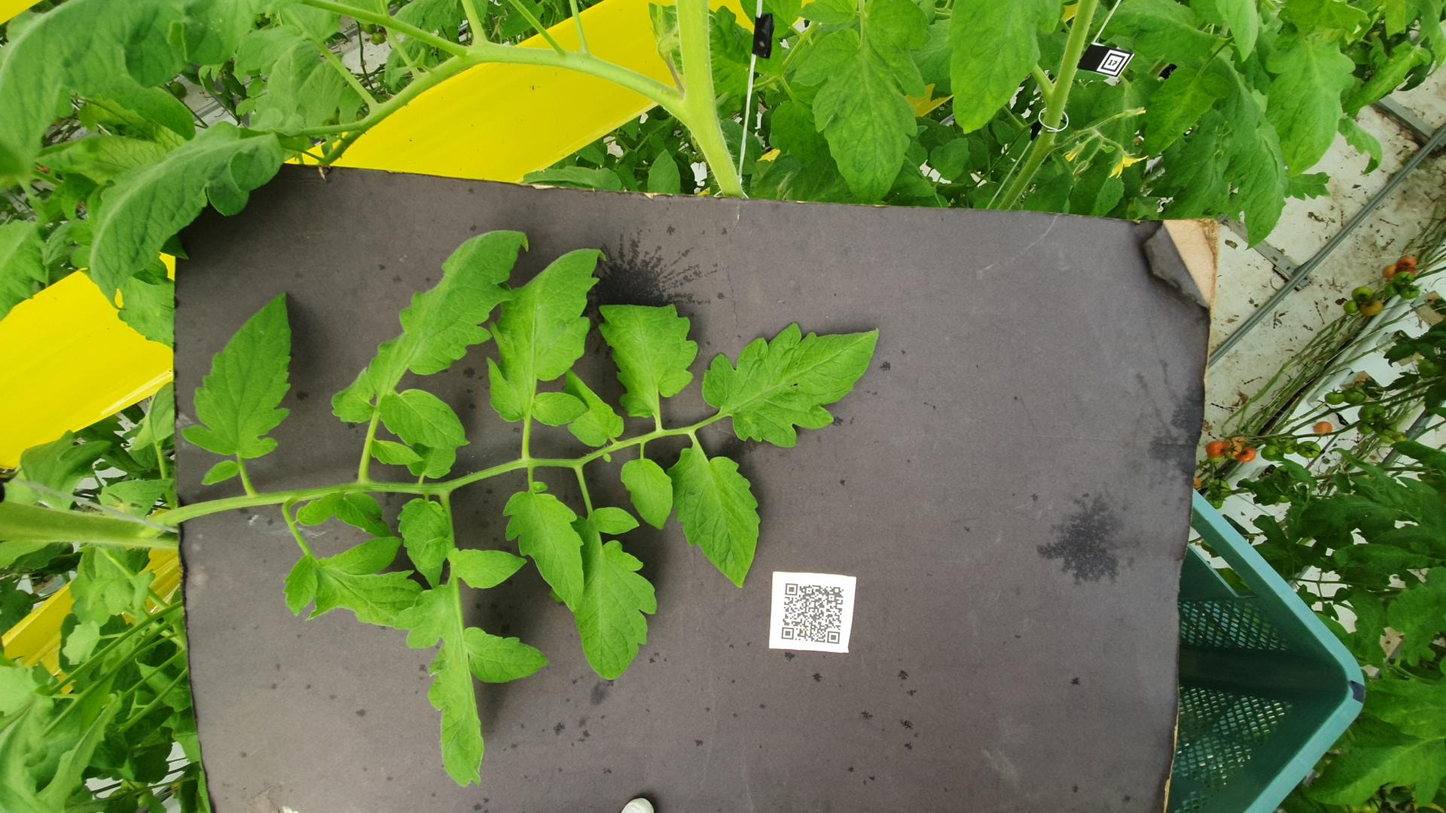Healthy: (646, 184, 1041, 299), (892, 49, 1233, 161), (39, 221, 402, 310), (1065, 443, 1446, 523), (648, 392, 890, 500), (687, 273, 1011, 343), (627, 102, 931, 167), (1197, 529, 1446, 598), (232, 321, 545, 371), (392, 373, 658, 430), (1128, 710, 1389, 762), (323, 157, 491, 235), (356, 281, 589, 333), (702, 334, 907, 393), (648, 315, 791, 351), (398, 224, 564, 252), (499, 348, 637, 380), (398, 254, 471, 297), (507, 163, 576, 196), (617, 206, 664, 240)
